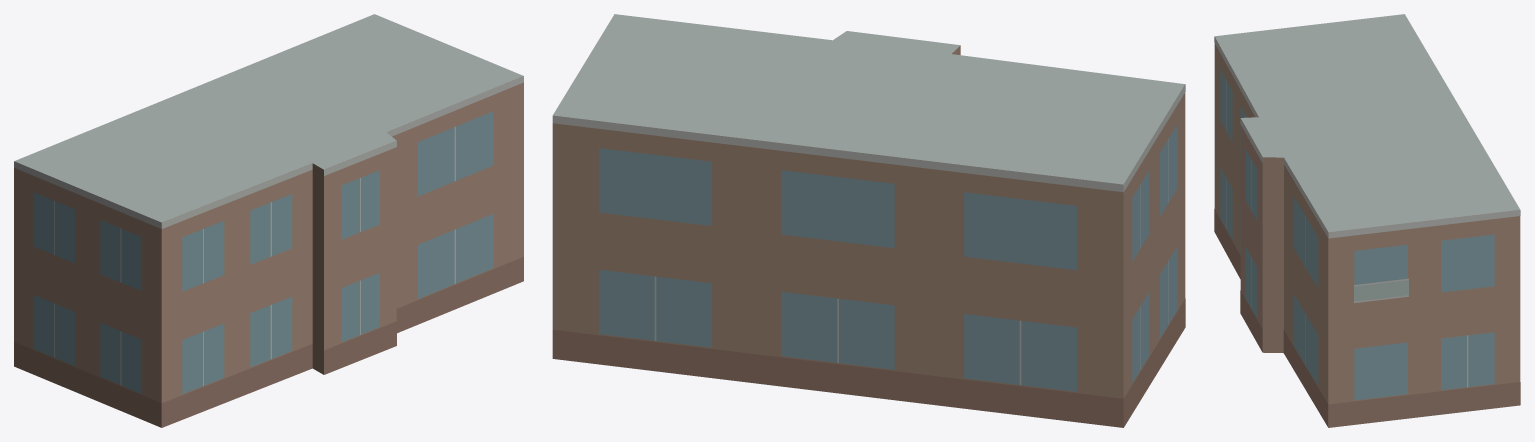
File: survey-upis-32616408.glb
3 views of the same model, side by side, from view 1: azimuth 30°, elevation 25°; view 2: azimuth 150°, elevation 25°; view 3: azimuth 270°, elevation 25° (orthographic). The views are drawn at different scales.
Parts seen in each view (by area): view 1: survey-upis-32616408.tmp; view 2: survey-upis-32616408.tmp; view 3: survey-upis-32616408.tmp.
Part boxes in pixels (box(x1,y1,x2,y2)): survey-upis-32616408.tmp: box(14, 14, 523, 427); survey-upis-32616408.tmp: box(552, 14, 1185, 427); survey-upis-32616408.tmp: box(1214, 14, 1520, 427).
Bounding box in the file's own units: 18.45 × 7.7 × 10.93.
